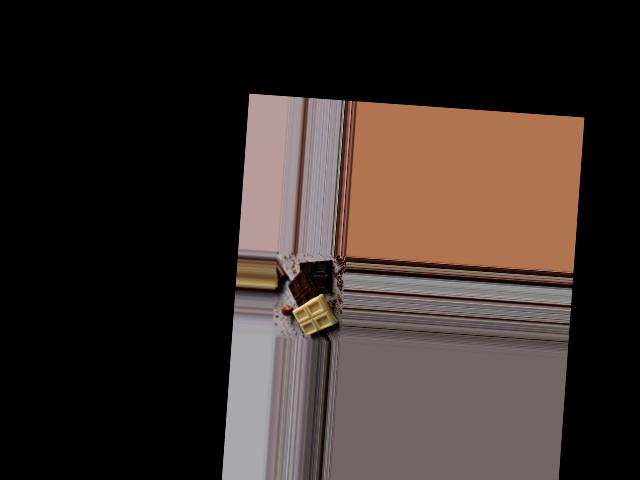chocolate: (284, 254, 337, 337)
